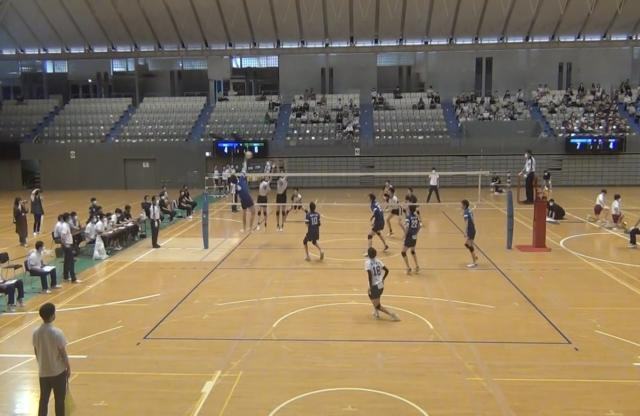spike: (230, 150, 260, 240)
